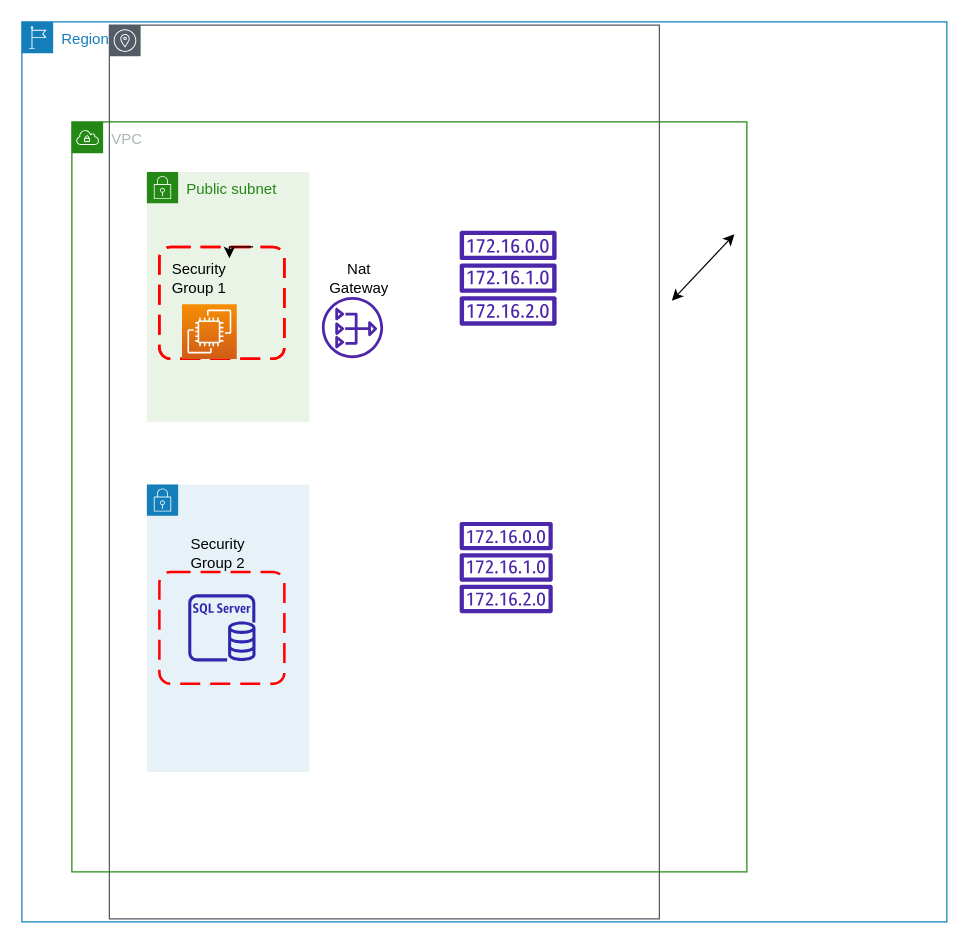
Image size: 969x944. Some labels were removed from this diagram. The shapes that lost their labels are listed below. From the top down, each one's box as (x1, y1, x2, y2) in pixels, then its label:
(108, 24, 659, 919): Availability zone
(146, 483, 309, 772): Private subnet
